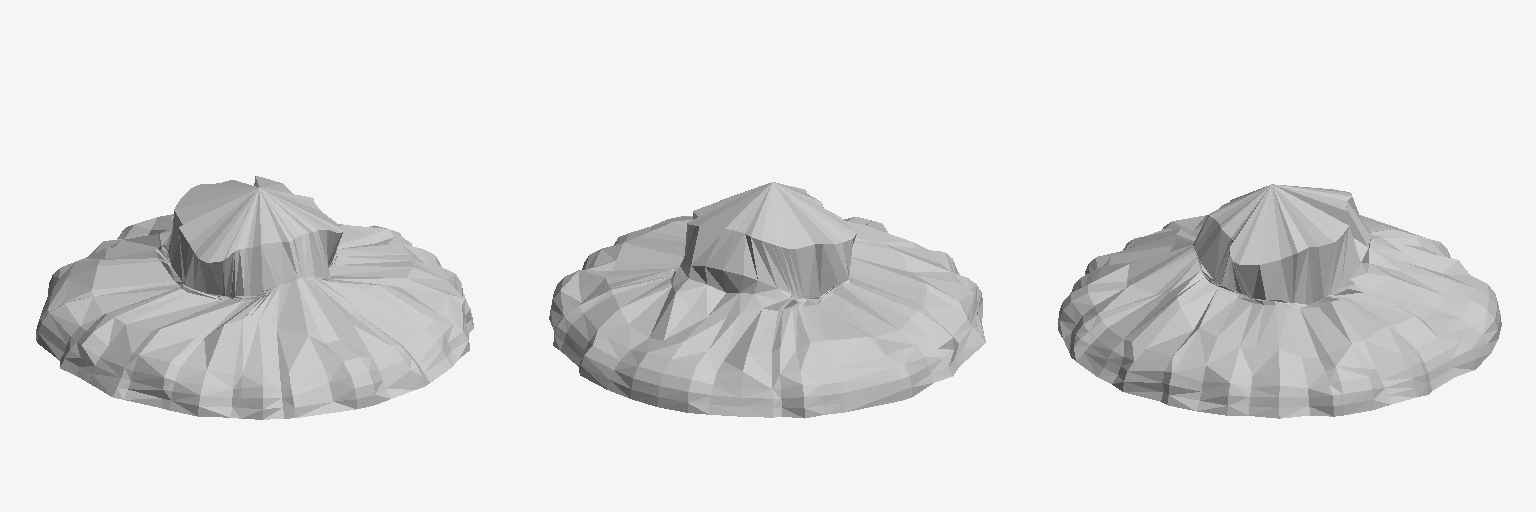
Rendered from explosion01.obj.
3 views of the same model, side by side, from view 1: azimuth 30°, elevation 25°; view 2: azimuth 150°, elevation 25°; view 3: azimuth 270°, elevation 25° (orthographic).
Visible parts, largest first — view 1: Plane; view 2: Plane; view 3: Plane.
Part boxes in pixels (x1,y1,x2,y2): Plane: (36,176,473,419); Plane: (549,182,985,418); Plane: (1058,184,1501,418).
Size of the model in its own units: 0.0203 by 0.0073 by 0.0204.